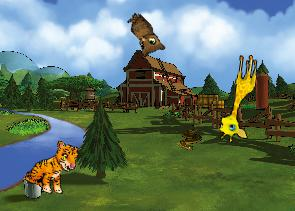giraffe: (216, 51, 259, 144)
owl: (116, 10, 169, 63)
tiger: (22, 134, 82, 199)
